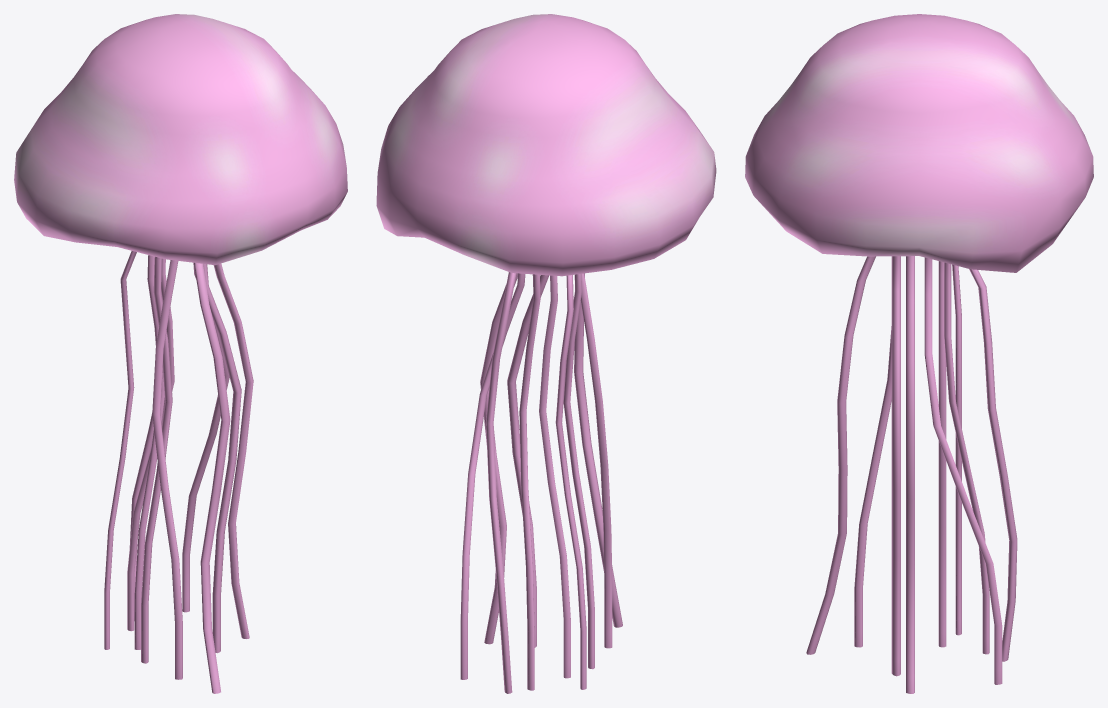
The model's file is medusa.fbx.
The picture shows the model from 3 angles, left to right: view 1: azimuth 30°, elevation 25°; view 2: azimuth 150°, elevation 25°; view 3: azimuth 270°, elevation 25°; orthographic projection. The views are drawn at different scales.
Parts seen in each view (by area): view 1: medusa:pSphere2; view 2: medusa:pSphere2; view 3: medusa:pSphere2.
Boxes of the visible parts, x1=… form: medusa:pSphere2: x1=14, y1=14, x2=347, y2=693; medusa:pSphere2: x1=376, y1=14, x2=716, y2=693; medusa:pSphere2: x1=745, y1=14, x2=1093, y2=693.
Size of the model in its own units: 3.59 by 7.27 by 3.62.
